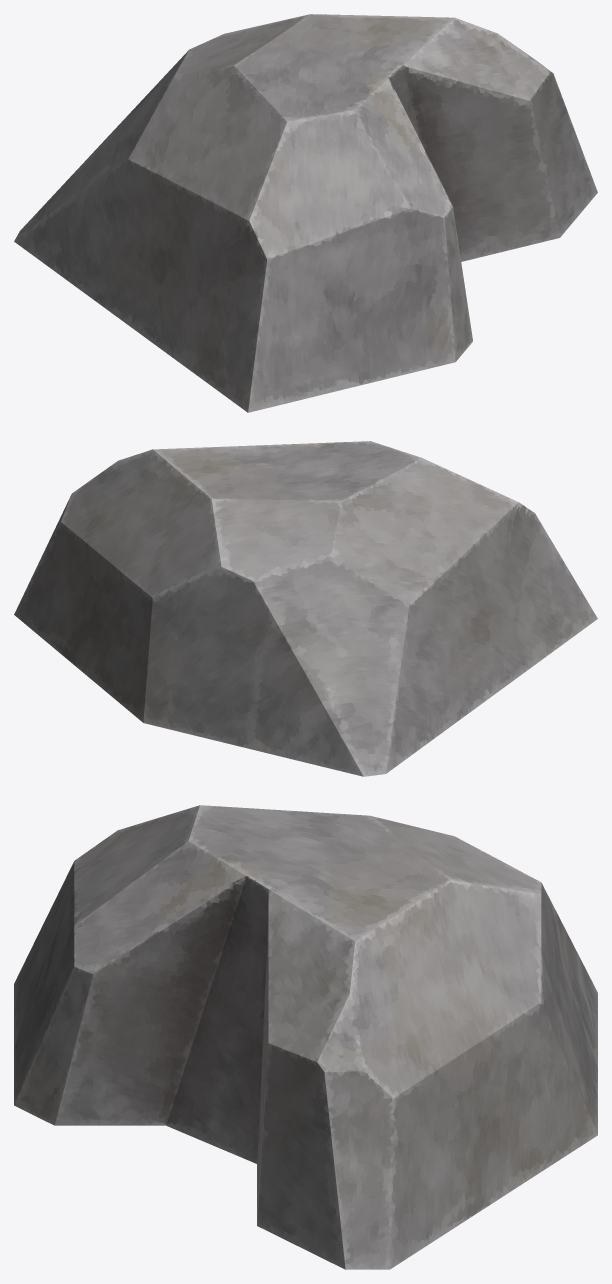
Rendered from Rock4_low.fbx.
The picture shows the model from 3 angles, top to bottom: view 1: azimuth 30°, elevation 25°; view 2: azimuth 150°, elevation 25°; view 3: azimuth 270°, elevation 25°; orthographic projection. The views are drawn at different scales.
Parts seen in each view (by area): view 1: rock_4_low; view 2: rock_4_low; view 3: rock_4_low.
Part boxes in pixels (x1,y1,x2,y2): rock_4_low: (14,14,597,412); rock_4_low: (14,441,597,776); rock_4_low: (14,805,597,1269).
Size of the model in its own units: 211 by 84.97 by 182.
